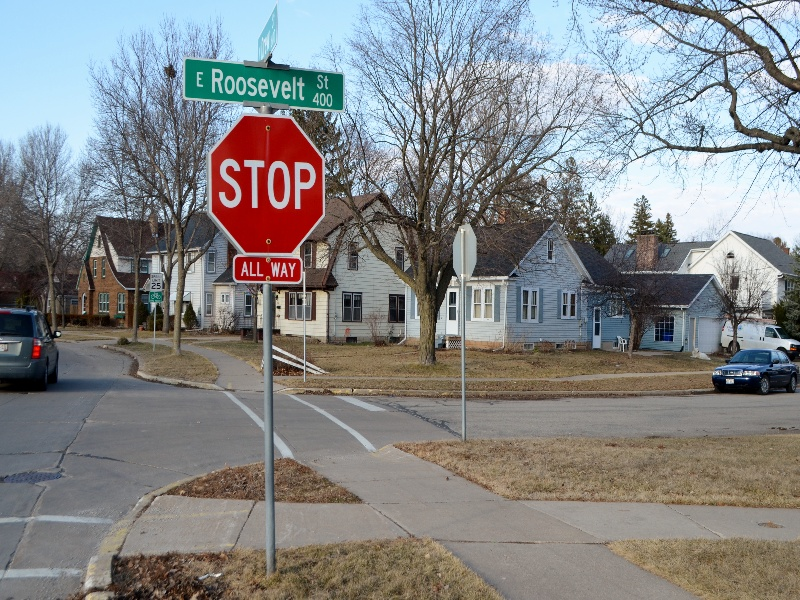stop sign: (203, 110, 329, 257)
